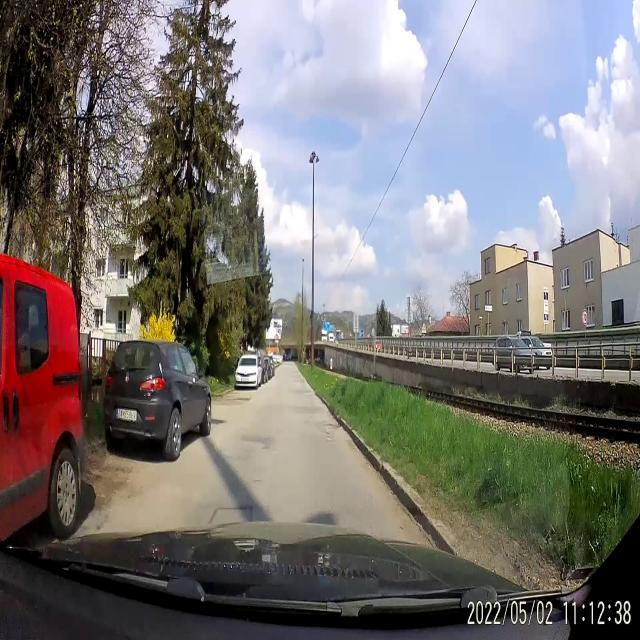Pothole: (318, 416, 338, 443)
